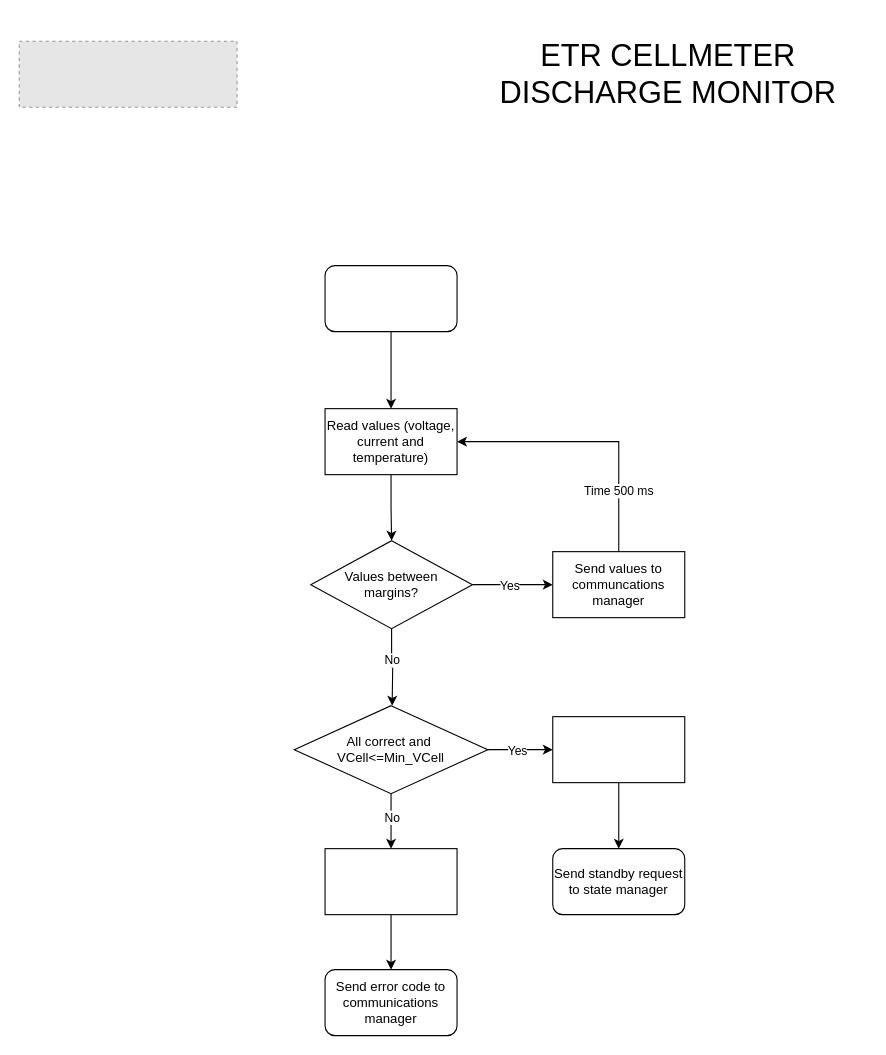
Some shapes in this 886 by 1055 pixel diagram are drawn without their labels. Grey dashed boxes stand in for pictures. The centre of each missing label's shape, as x and y in pixels:
Send "discharge end message" to communications manager: the point at 618,749
Set bit for wrong value: the point at 390,881
State change to discharge (call from state manager): the point at 390,298
